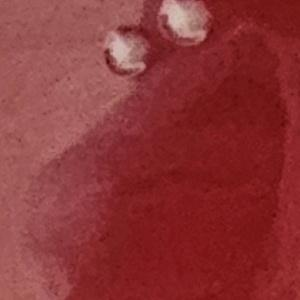colony: (98, 22, 161, 82), (153, 0, 217, 52)
